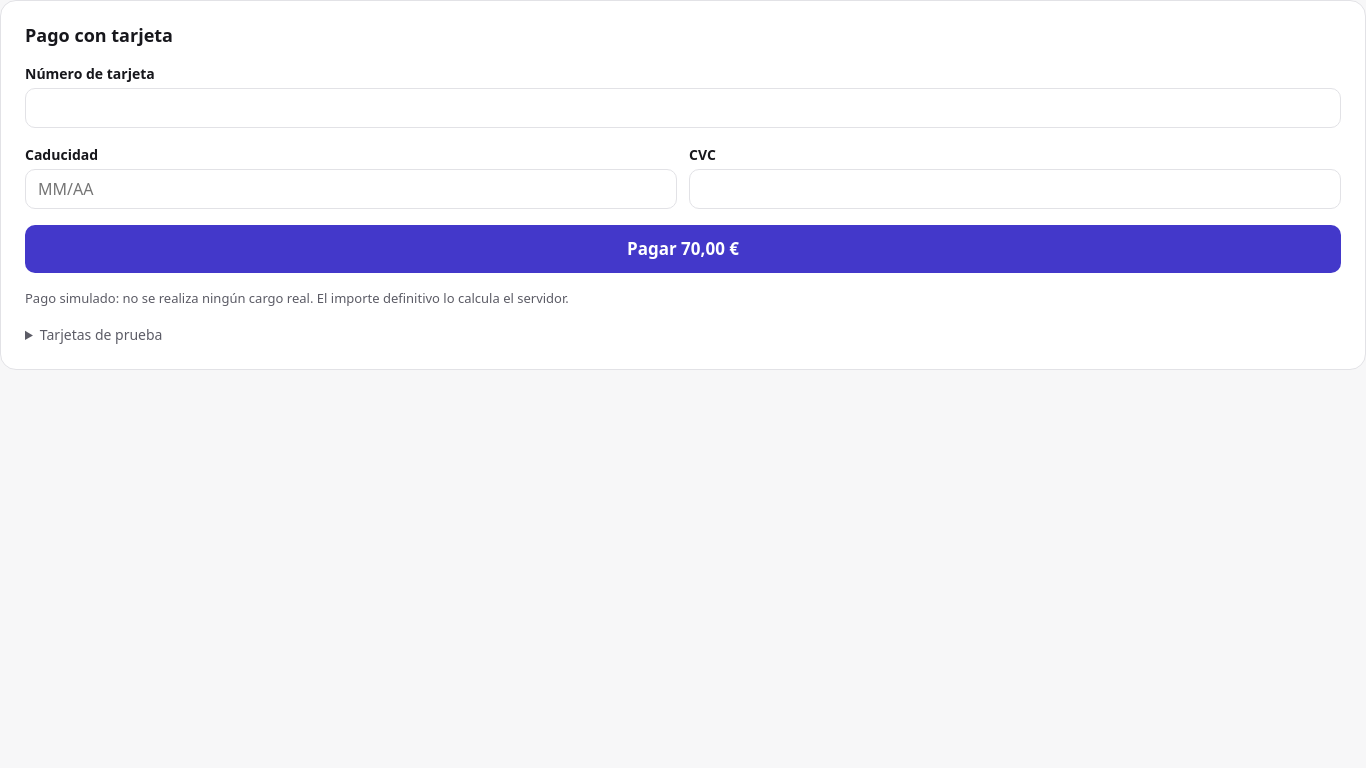
CheckoutForm › rellena una tarjeta de prueba al elegirla
Click the heading "Tarjetas de prueba".
click(101, 335)  # box [40, 325, 162, 344]
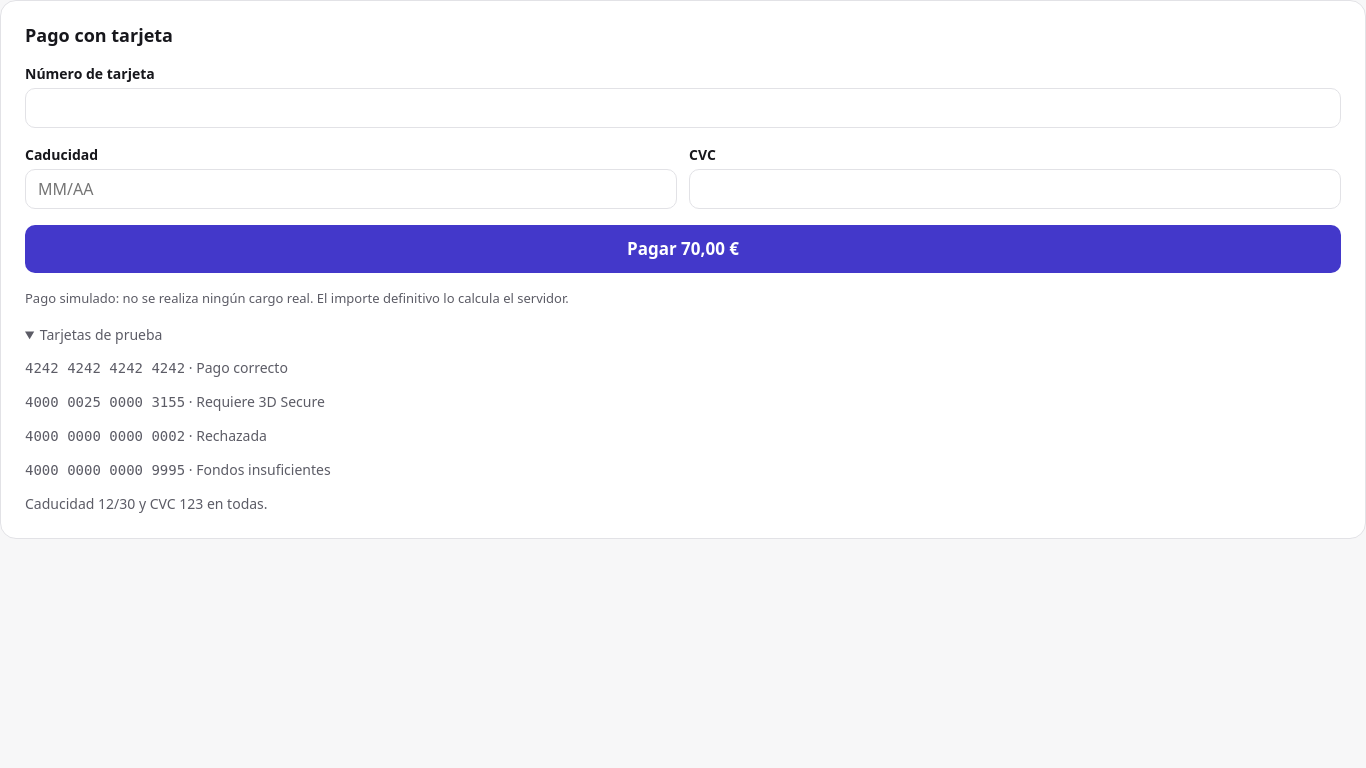
Click the button "4000 0000 0000 0002 · Rechazada".
click(146, 436)  # box [25, 421, 267, 451]
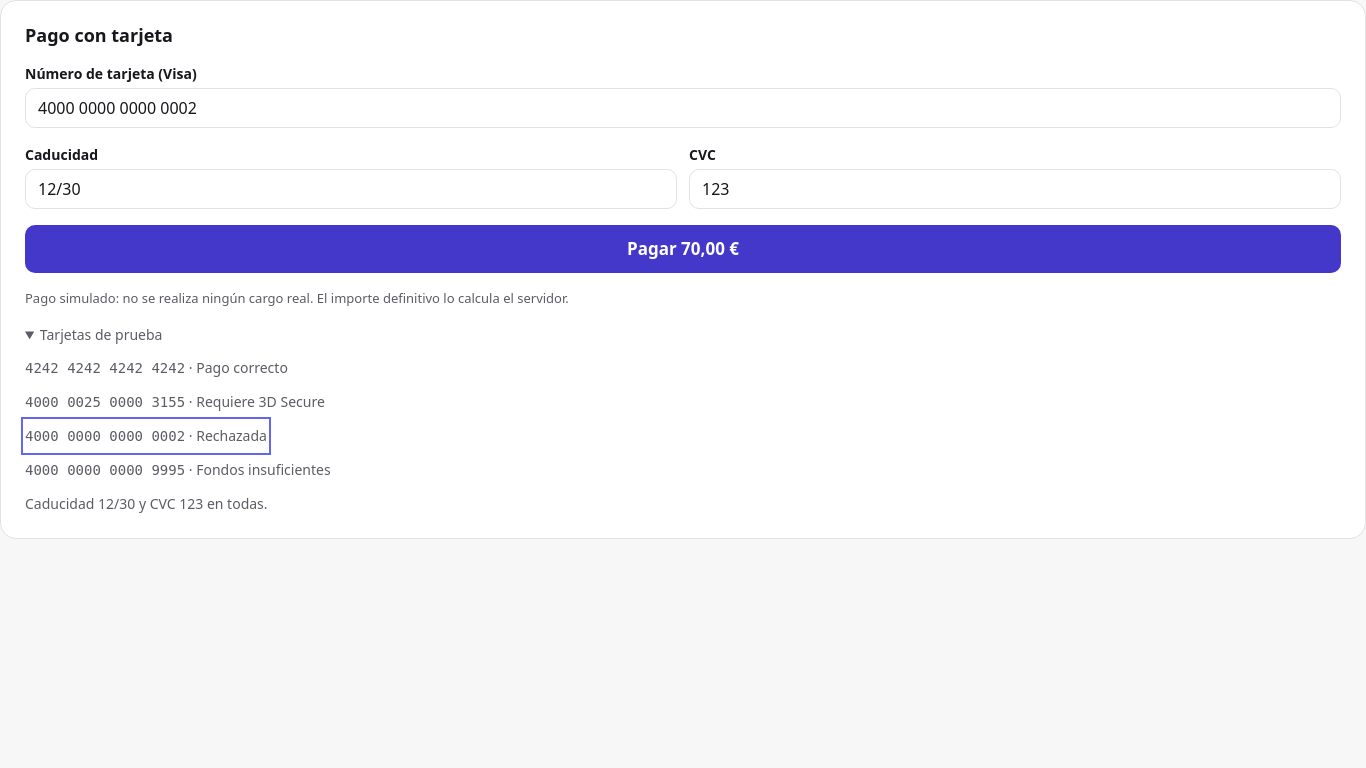
Expected: the field labelled "Número de tarjeta (Visa)" holds "4000 0000 0000 0002", [25, 88, 1341, 128]
Expected: the field labelled "CVC" holds "123", [689, 169, 1341, 209]
